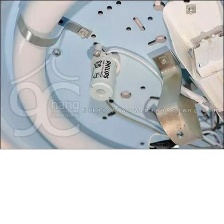light_bulb: (7, 0, 224, 172)
